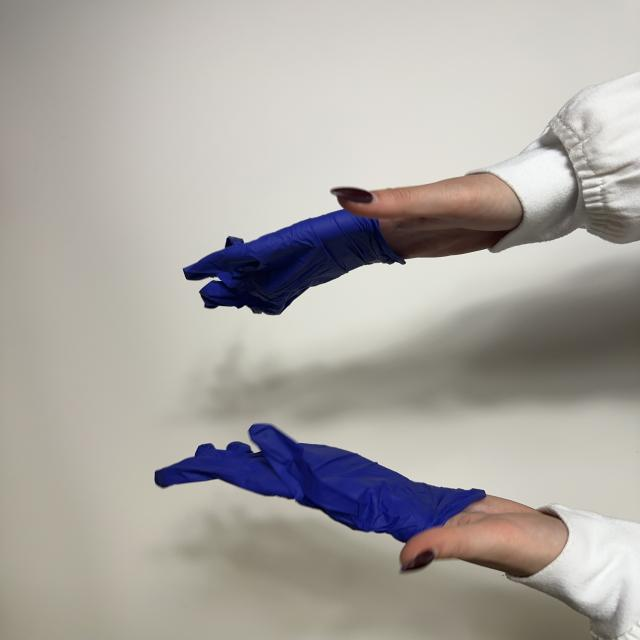glove_partial: (155, 424, 568, 577), (185, 173, 522, 314)
